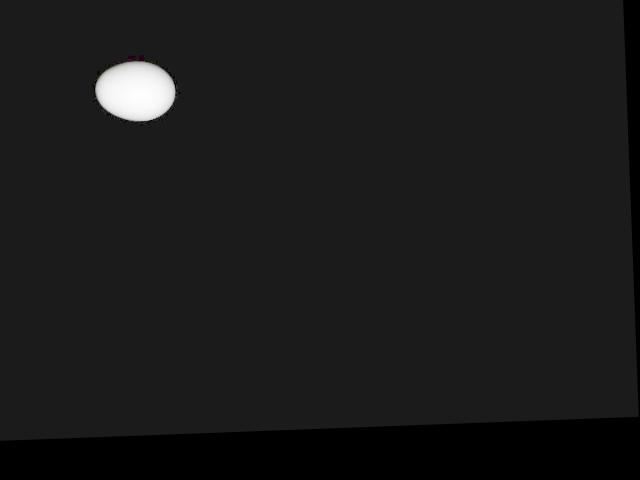egg: (95, 60, 177, 122)
